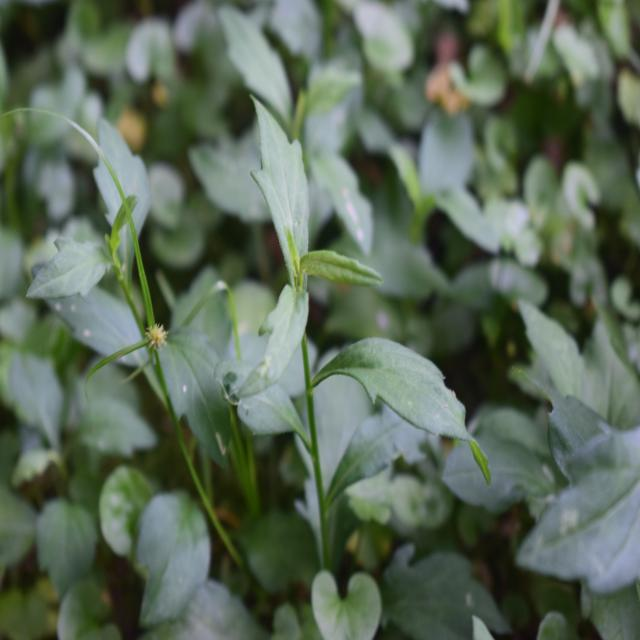Indian aster: (204, 113, 472, 515)
